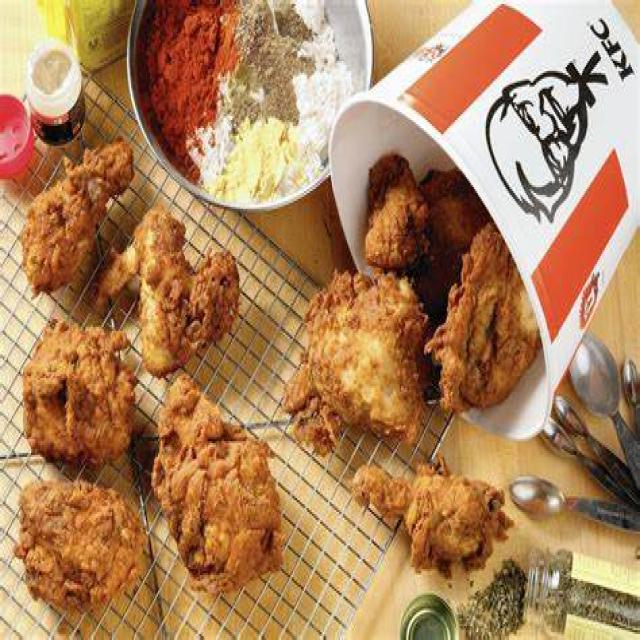Frango: (152, 380, 284, 591), (290, 278, 430, 449), (87, 215, 240, 370), (436, 226, 558, 414), (352, 469, 510, 581), (22, 144, 135, 297), (26, 325, 135, 473), (19, 482, 144, 608), (422, 157, 514, 260), (362, 152, 433, 270)
